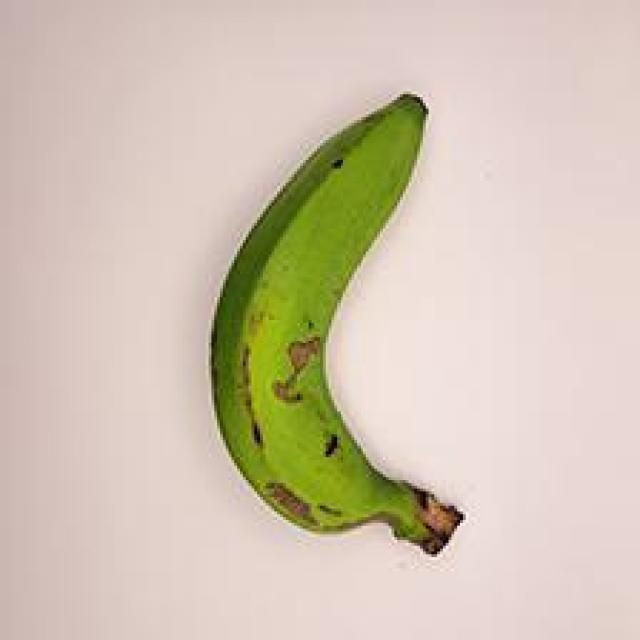Raw: (178, 62, 486, 582)
